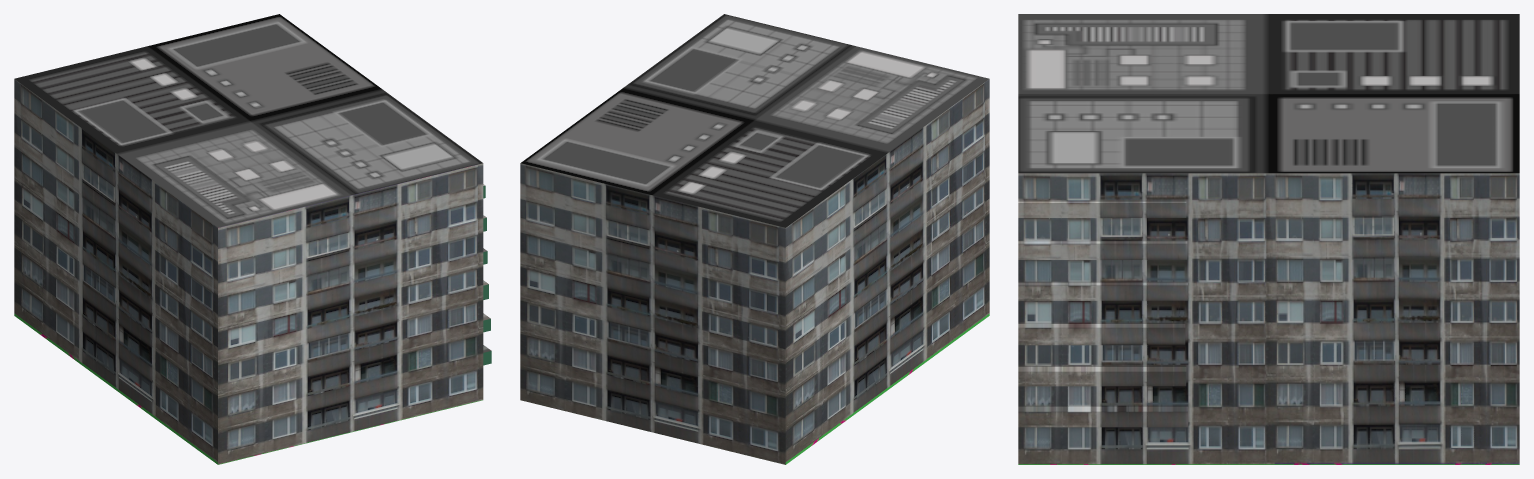
Rendered from city1.gltf.
3 views of the same model, side by side, from view 1: azimuth 30°, elevation 25°; view 2: azimuth 150°, elevation 25°; view 3: azimuth 270°, elevation 25° (orthographic). The views are drawn at different scales.
Parts seen in each view (by area): view 1: Cube.001; view 2: Cube.001; view 3: Cube.001.
Boxes of the visible parts, x1,y1,x2,y2 form: Cube.001: [14, 14, 491, 464]; Cube.001: [520, 14, 989, 464]; Cube.001: [1018, 14, 1519, 464].
Size of what is drawn, in the model's own units: 38.47 by 31.86 by 49.63.
Materials: 1 (1 with a texture image).
